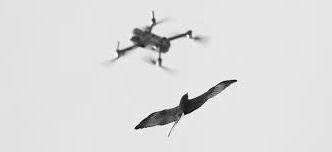Bird: (132, 77, 237, 139)
Drone: (98, 4, 209, 68)
